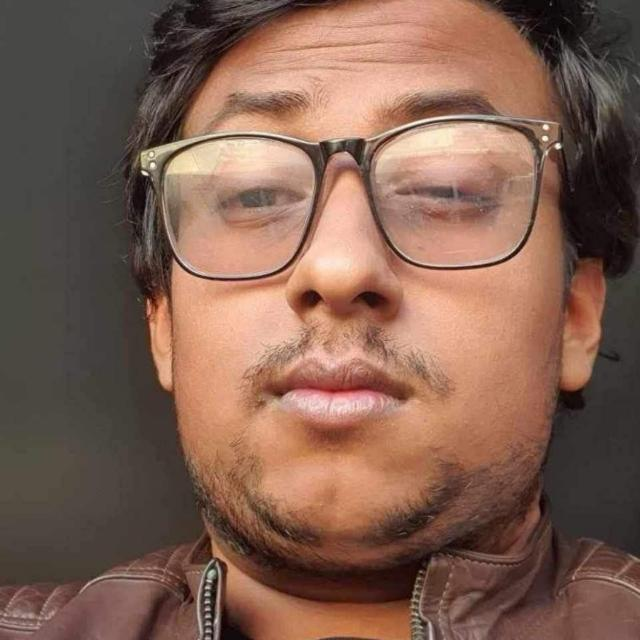Disgust: (18, 1, 638, 563)
